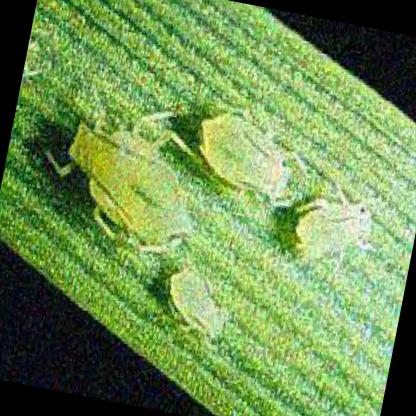schizaphis graminum: (70, 121, 190, 245), (204, 111, 289, 199), (296, 198, 373, 257), (170, 261, 222, 338)
